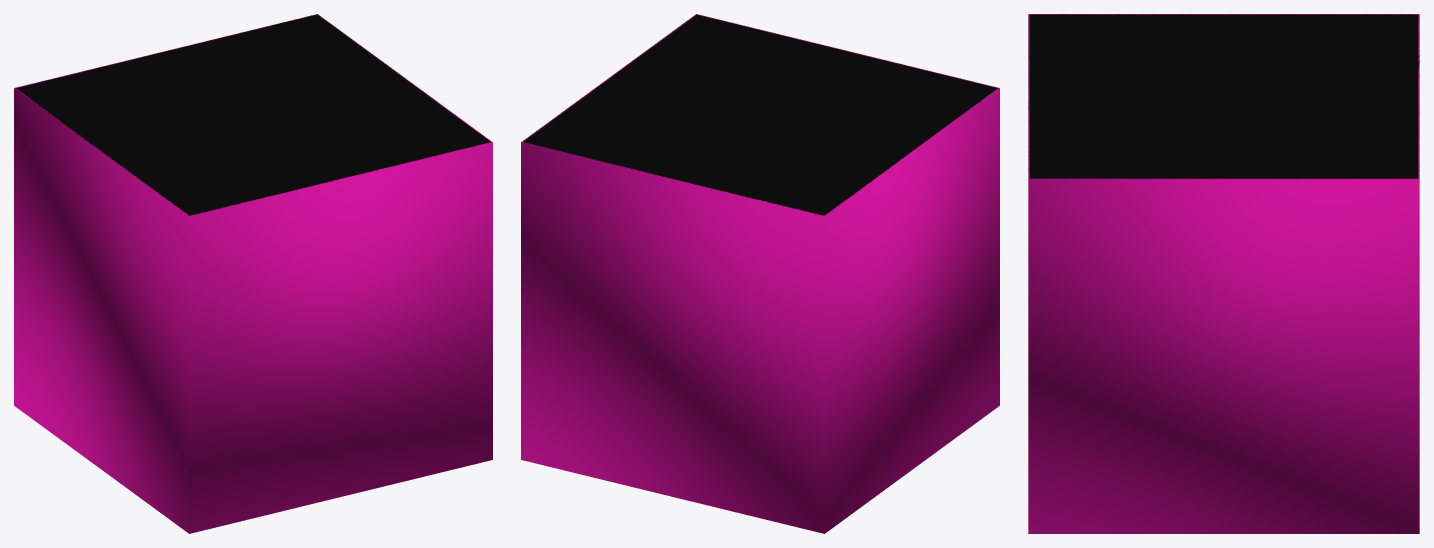
The model's file is gradiant box.fbx.
3 views of the same model, side by side, from view 1: azimuth 30°, elevation 25°; view 2: azimuth 150°, elevation 25°; view 3: azimuth 270°, elevation 25° (orthographic). The views are drawn at different scales.
Visible parts, largest first — view 1: Cube, Cube.001; view 2: Cube, Cube.001; view 3: Cube, Cube.001.
Boxes of the visible parts, x1,y1,x2,y2 form: Cube: [14, 14, 492, 533]; Cube.001: [16, 14, 490, 215]; Cube: [521, 14, 999, 533]; Cube.001: [523, 14, 997, 215]; Cube: [1028, 14, 1419, 533]; Cube.001: [1028, 14, 1419, 179].
Bounding box in the file's own units: 2 × 2 × 2.
3 materials, 1 textured.
